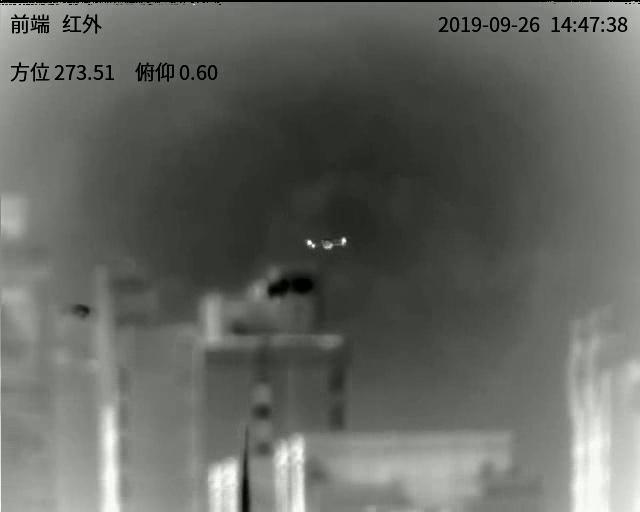DRONE: (303, 235, 348, 251)
